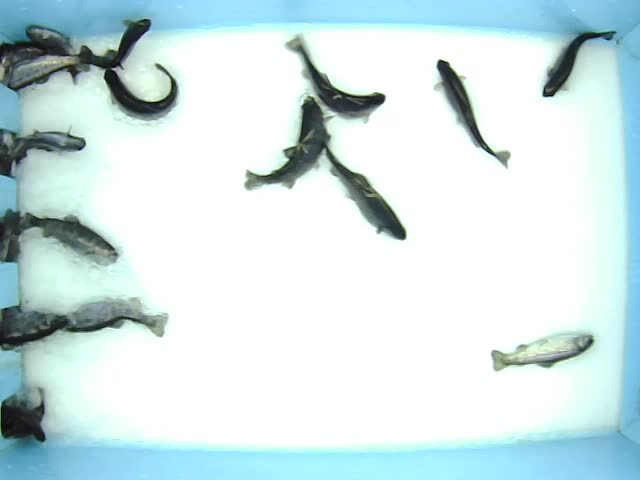fish: (315, 127, 407, 243), (284, 30, 389, 127), (243, 93, 335, 192), (433, 57, 512, 171), (21, 212, 121, 266), (541, 30, 617, 99), (57, 295, 169, 339), (490, 332, 595, 374), (103, 63, 180, 120), (79, 16, 154, 68)
